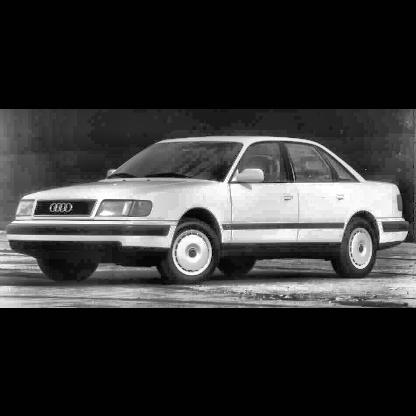Audi 100 Sedan 1994: (7, 136, 411, 286)
